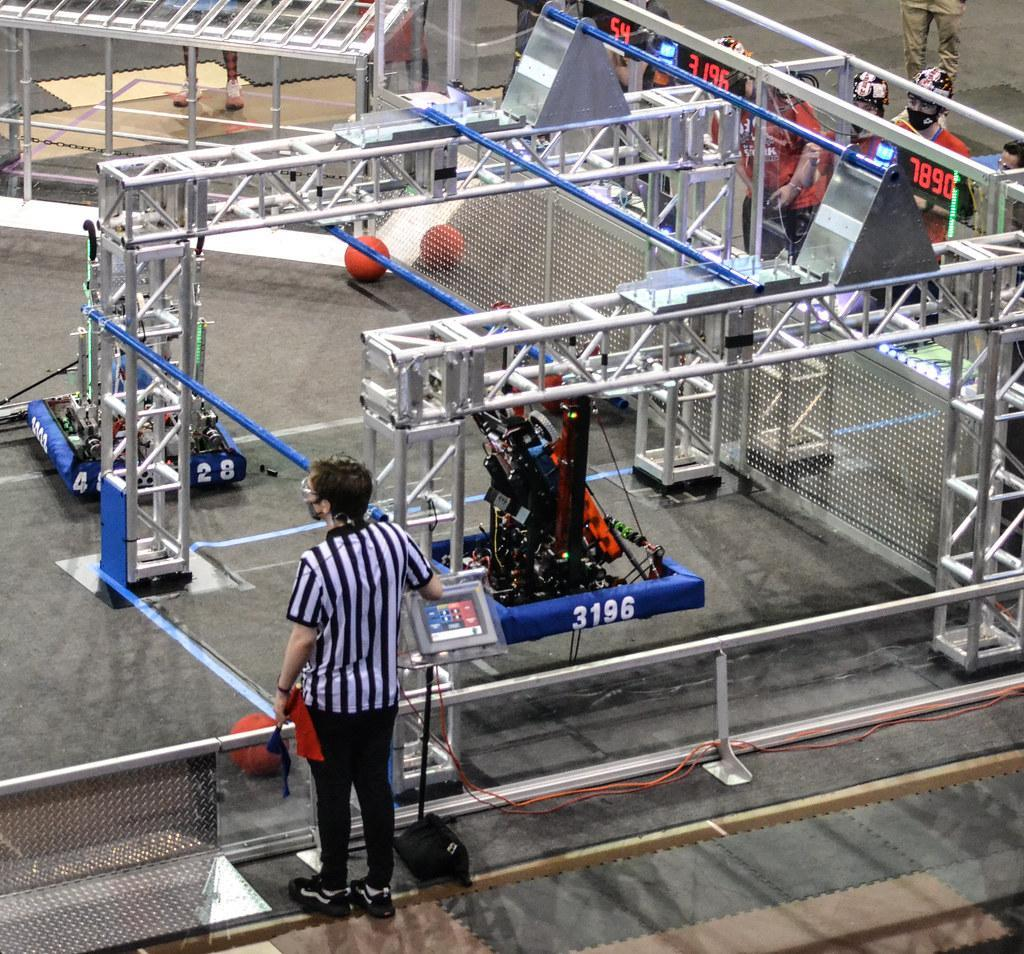robot: (386, 350, 716, 640), (24, 211, 254, 513)
